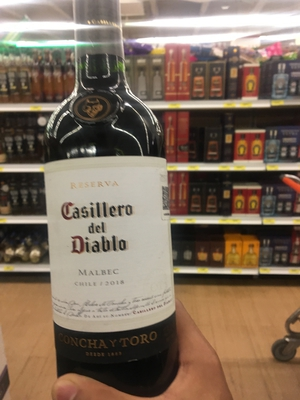casillero del diablo malbec: (30, 6, 198, 400)
